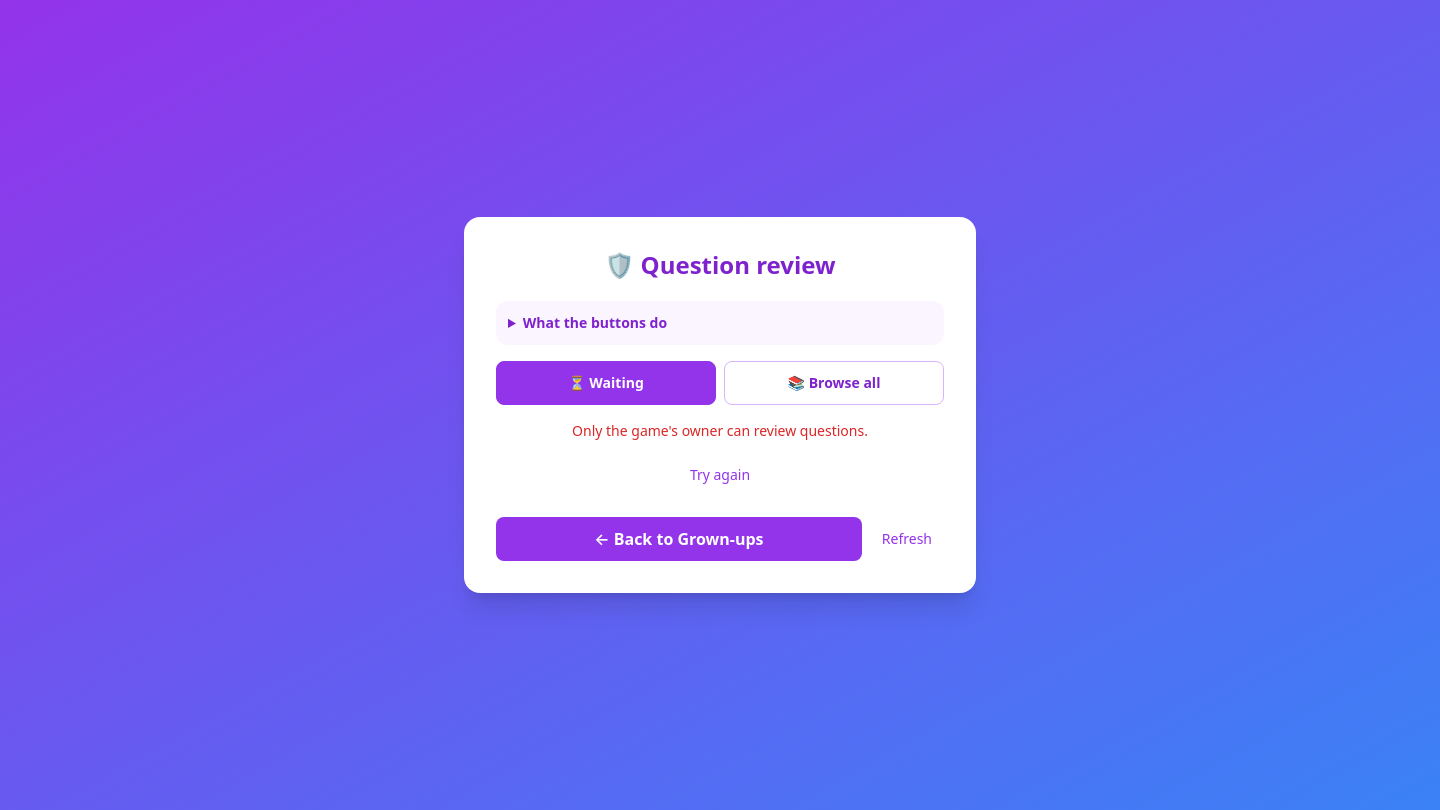
Test: QuestionReviewPage (#147) › a queue that can’t load says why and offers Try again; someone who isn’t an admin is told so
This screenshot has width=1440, height=810.
Expected: the text "Only the game's owner can review questions." is shown, [572,421,868,440]
Click the button "Try again". click: (720, 475)
box: [678,453,762,497]
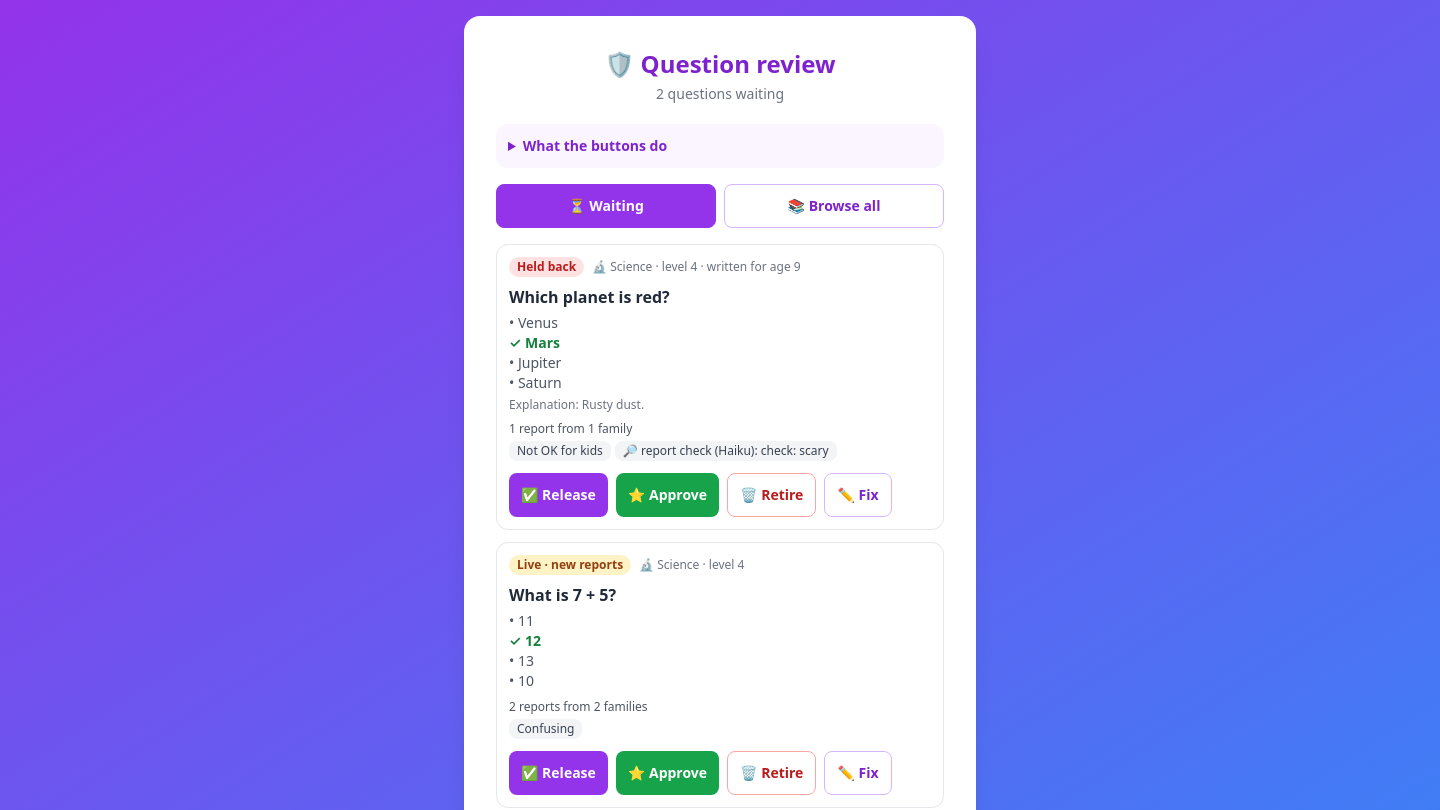
Now the text "2 questions waiting" is shown, box [656,84,784,103]
